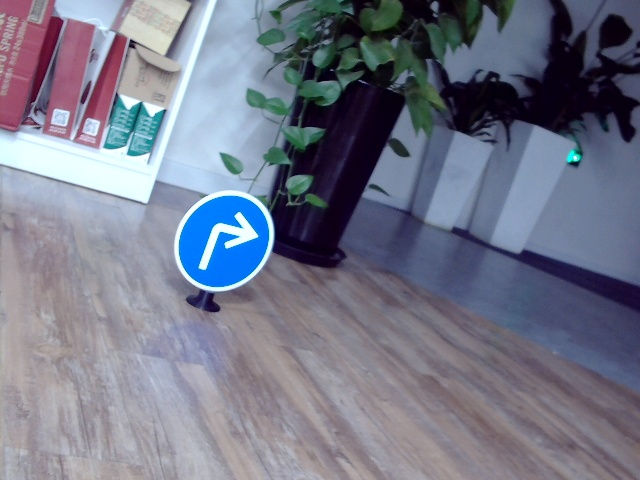turn_right: (200, 205, 255, 271)
